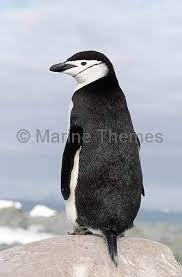chinstrap: (36, 30, 162, 266)
